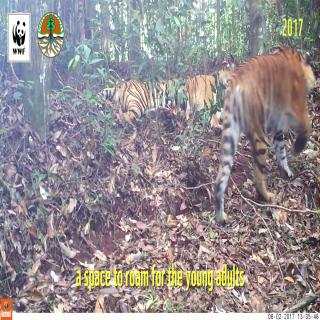Tiger: (212, 23, 320, 210), (96, 62, 235, 175)
